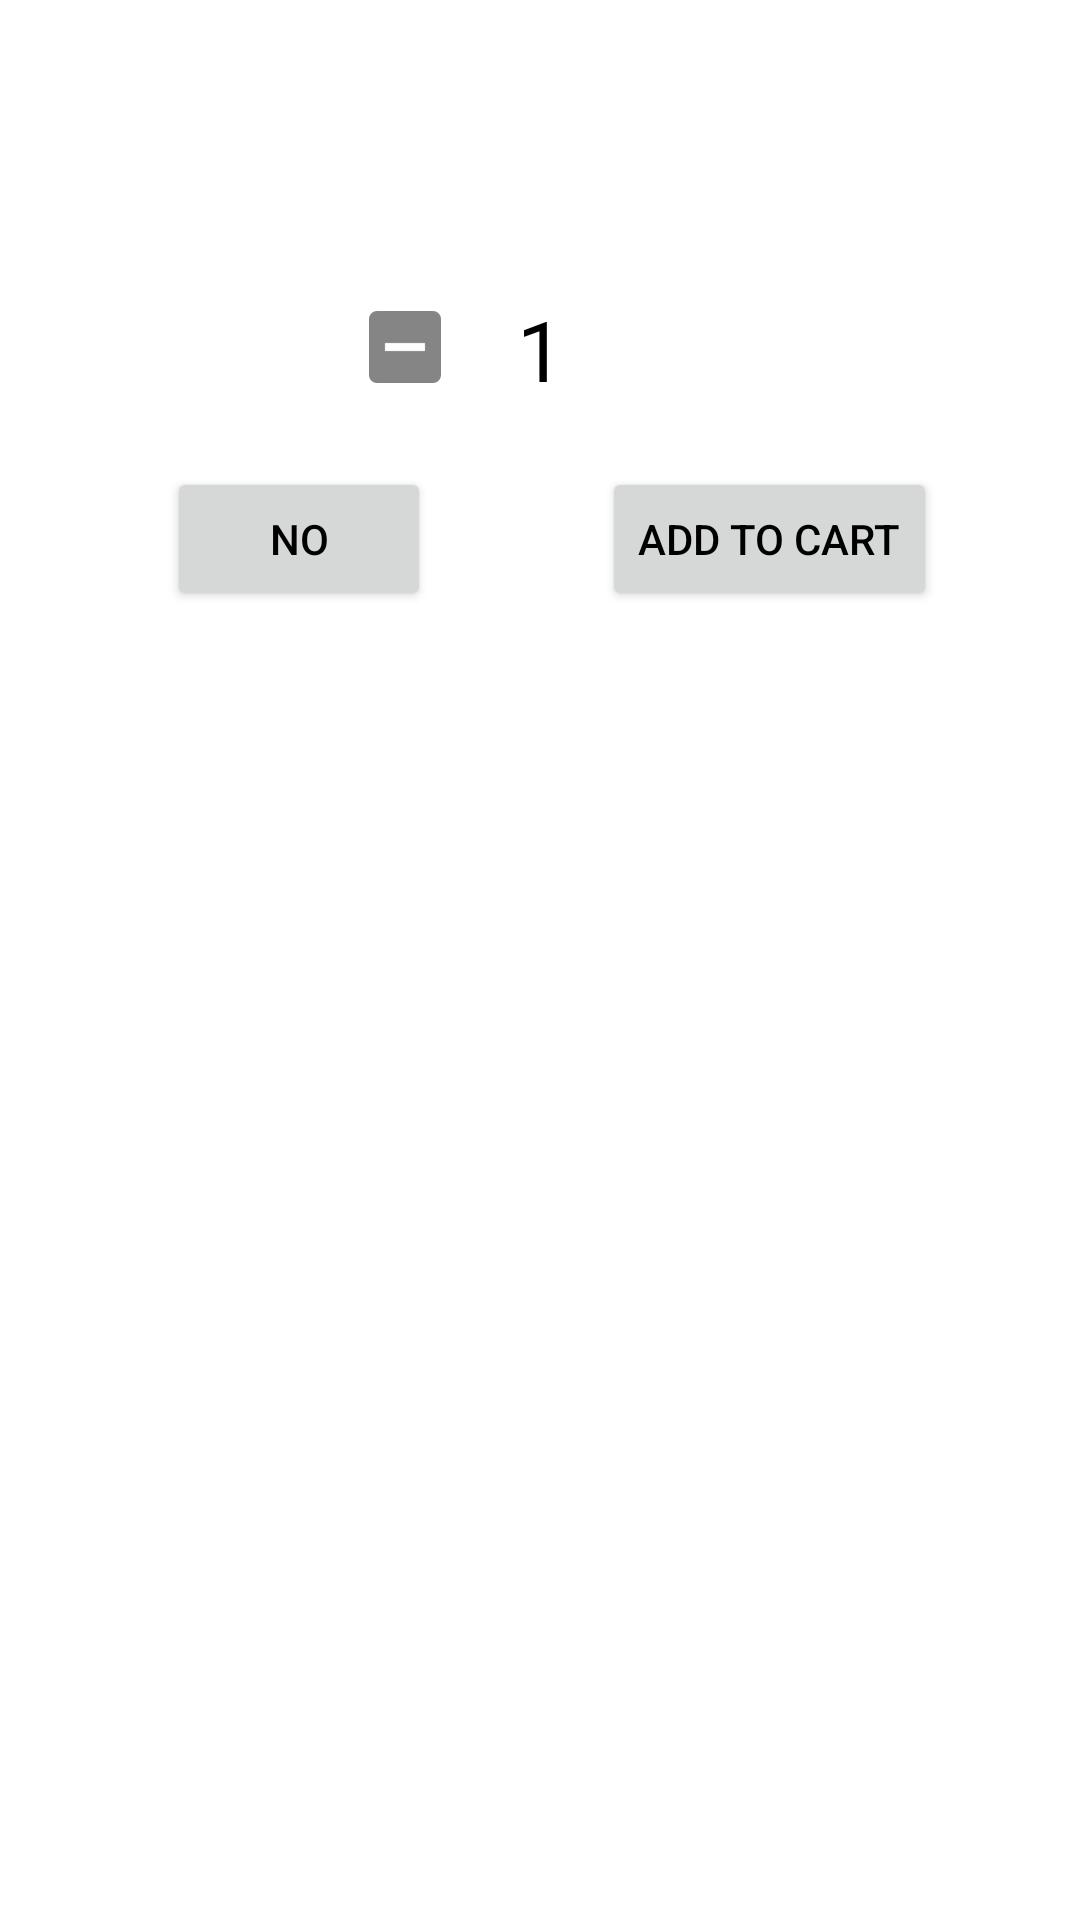

Point at icon controls on the screen. Image size 1080×1920, points as [x,y].
minus: [405,347]
